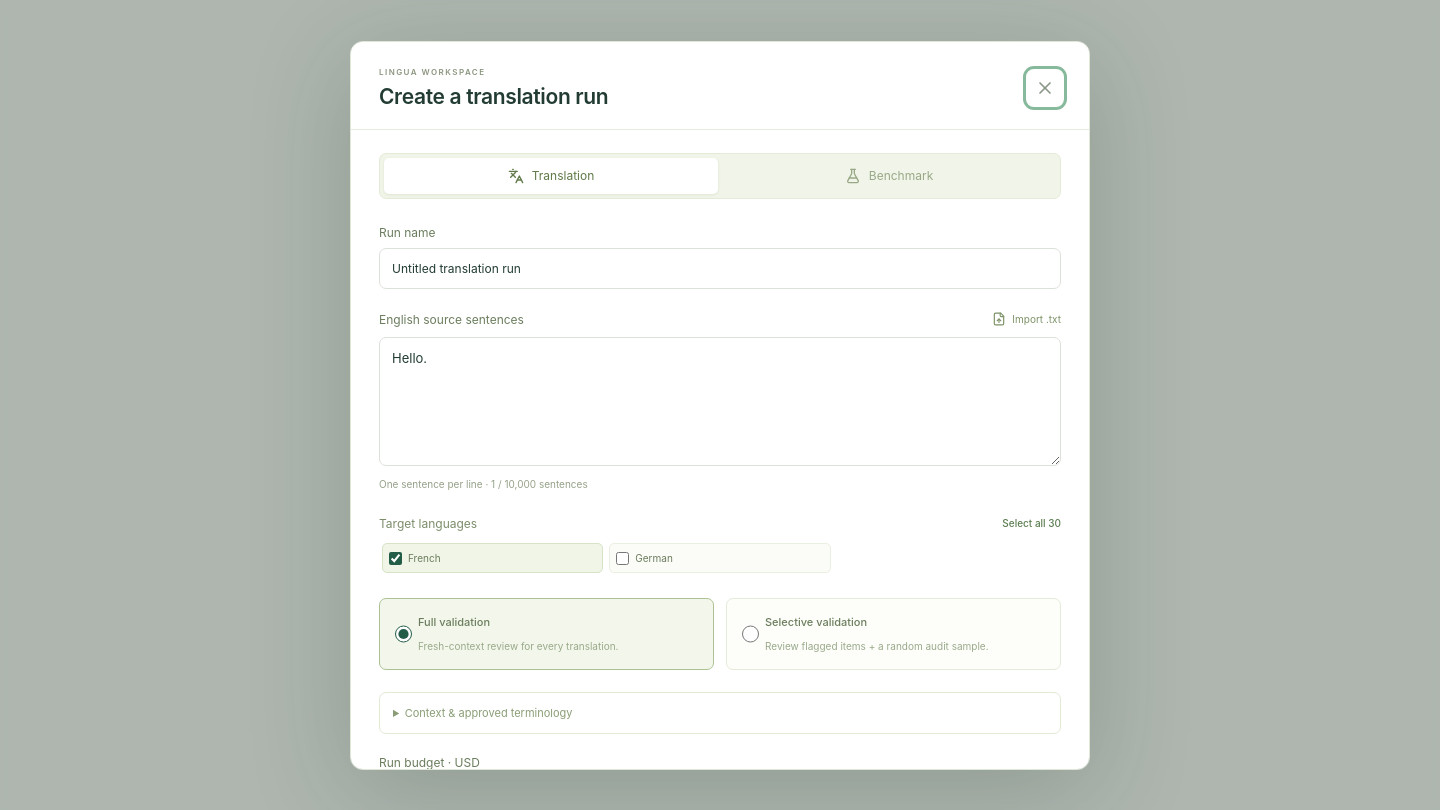
Test case: run creation › blocks malformed glossary JSON without sending a request
Click the heading "Context & approved terminology": (489, 713) [405,706,572,720]
(page scrolled)
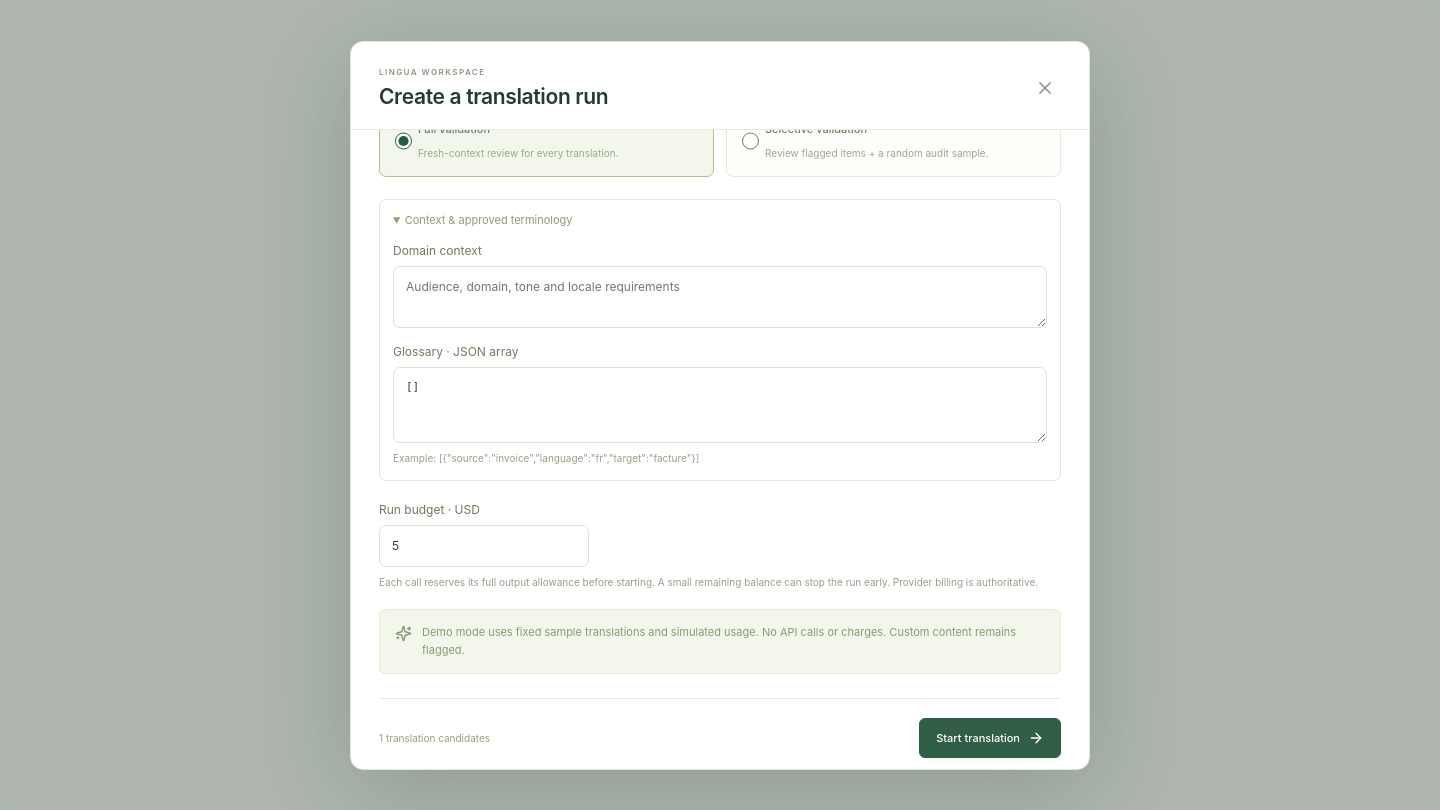
Replace the text in the text box labelled "Glossary · JSON array" with "not json": (720, 405) [393,367,1047,443]
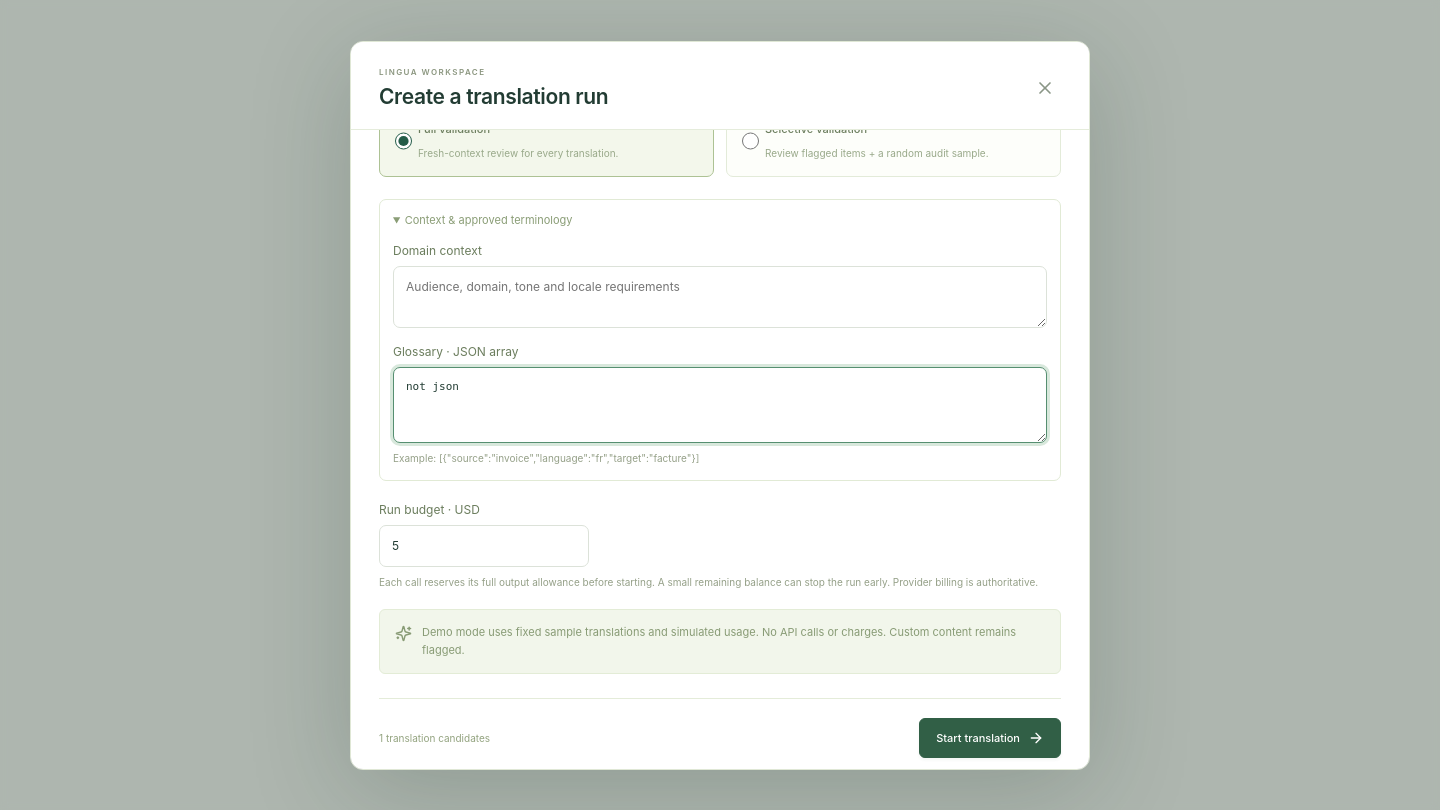
Click the button "Start translation": (990, 738) [919,718,1061,758]
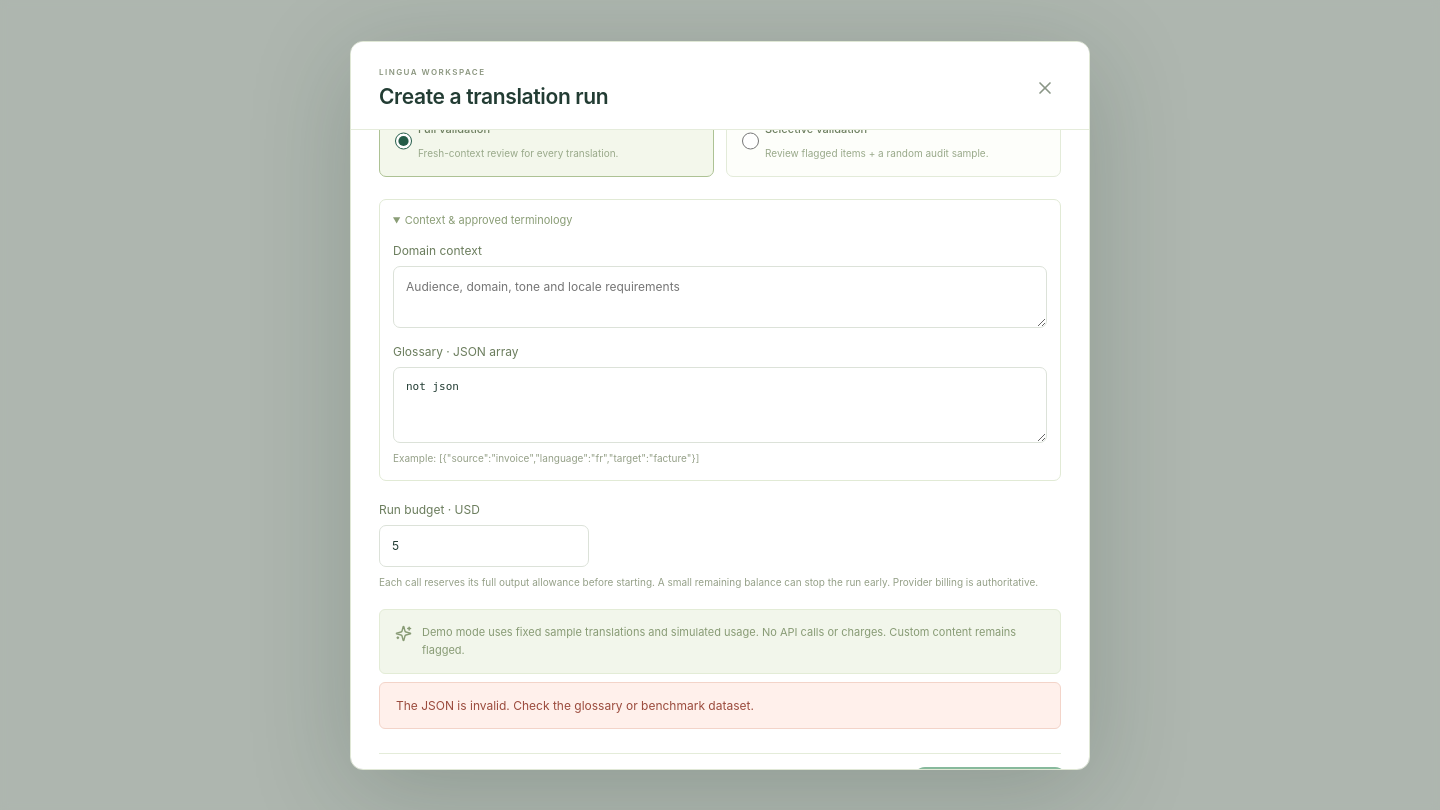
Expected: the message shows "JSON is invalid", [396,698,754,713]
